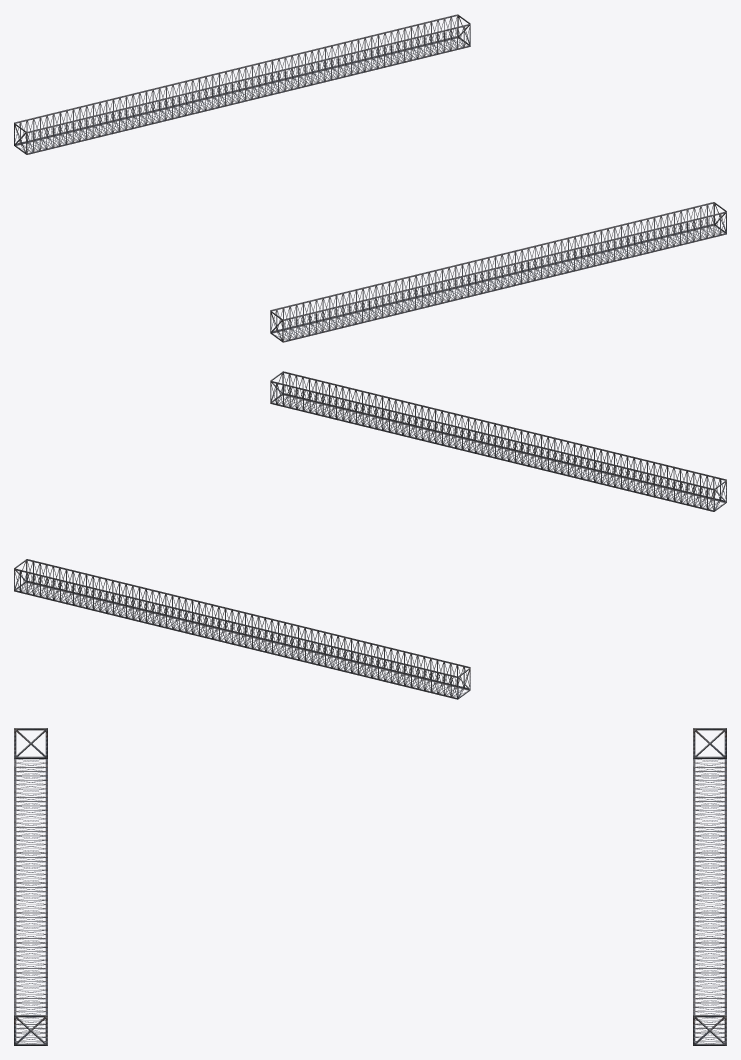
File: dt_small02_supports.fbx
3 renders of one model, top to bottom at view 1: azimuth 30°, elevation 25°; view 2: azimuth 150°, elevation 25°; view 3: azimuth 270°, elevation 25°, orthographic. The views are drawn at different scales.
Visible parts, largest first — view 1: mesh_0, mesh_1; view 2: mesh_1, mesh_0; view 3: mesh_0, mesh_1.
Part boxes in pixels (x1,y1,x2,y2): mesh_0: (14,14,470,154); mesh_1: (270,202,726,342); mesh_1: (270,371,726,511); mesh_0: (14,559,470,699); mesh_0: (693,728,726,1045); mesh_1: (14,728,47,1045).
Bounding box in the file's own units: 800 × 40 × 840.
1 material, 1 textured.
